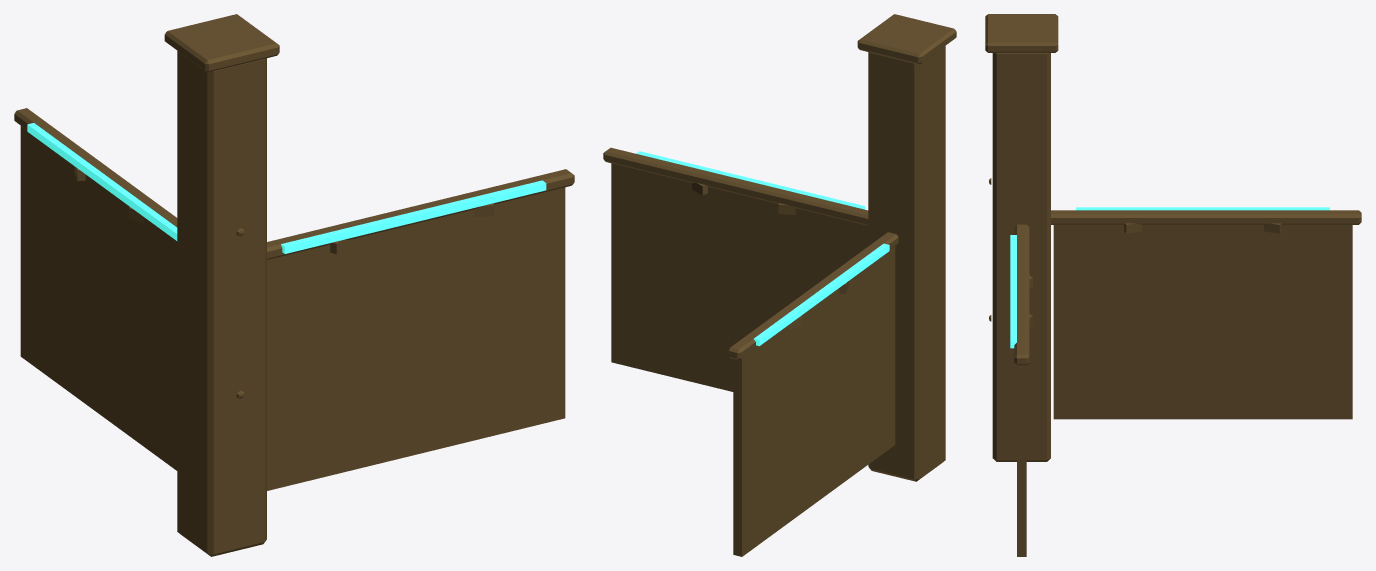
Rendered from SM_Fence_DvergrBrass_08_Corner.fbx.
3 views of the same model, side by side, from view 1: azimuth 30°, elevation 25°; view 2: azimuth 150°, elevation 25°; view 3: azimuth 270°, elevation 25° (orthographic). The views are drawn at different scales.
Parts seen in each view (by area): view 1: SM_Fence_DvergrBrass_08_Corner_PanelX, SM_Fence_DvergrBrass_08_Corner_Post, SM_Fence_DvergrBrass_08_Corner_PanelY, SM_Fence_DvergrBrass_08_Corner_Post_Cap, SM_Fence_DvergrBrass_08_Corner_GlowX, SM_Fence_DvergrBrass_08_Corner_RailTopX, SM_Fence_DvergrBrass_08_Corner_GlowY, SM_Fence_DvergrBrass_08_Corner_RailTopY; view 2: SM_Fence_DvergrBrass_08_Corner_PanelX, SM_Fence_DvergrBrass_08_Corner_PanelY, SM_Fence_DvergrBrass_08_Corner_Post, SM_Fence_DvergrBrass_08_Corner_RailTopX, SM_Fence_DvergrBrass_08_Corner_Post_Cap, SM_Fence_DvergrBrass_08_Corner_RailTopY, SM_Fence_DvergrBrass_08_Corner_GlowY, SM_Fence_DvergrBrass_08_Corner_GlowX; view 3: SM_Fence_DvergrBrass_08_Corner_PanelY, SM_Fence_DvergrBrass_08_Corner_Post, SM_Fence_DvergrBrass_08_Corner_RailTopY, SM_Fence_DvergrBrass_08_Corner_Post_Cap, SM_Fence_DvergrBrass_08_Corner_RailTopX, SM_Fence_DvergrBrass_08_Corner_PanelX, SM_Fence_DvergrBrass_08_Corner_GlowY, SM_Fence_DvergrBrass_08_Corner_GlowX.
Boxes of the visible parts, bbox=[...] form: SM_Fence_DvergrBrass_08_Corner_PanelX: bbox=[267, 187, 565, 490]; SM_Fence_DvergrBrass_08_Corner_Post: bbox=[177, 51, 266, 556]; SM_Fence_DvergrBrass_08_Corner_PanelY: bbox=[20, 126, 177, 470]; SM_Fence_DvergrBrass_08_Corner_Post_Cap: bbox=[164, 14, 279, 72]; SM_Fence_DvergrBrass_08_Corner_GlowX: bbox=[281, 180, 546, 253]; SM_Fence_DvergrBrass_08_Corner_RailTopX: bbox=[267, 169, 574, 259]; SM_Fence_DvergrBrass_08_Corner_GlowY: bbox=[27, 123, 177, 240]; SM_Fence_DvergrBrass_08_Corner_RailTopY: bbox=[14, 108, 177, 227]; SM_Fence_DvergrBrass_08_Corner_PanelX: bbox=[611, 163, 868, 391]; SM_Fence_DvergrBrass_08_Corner_PanelY: bbox=[733, 246, 895, 556]; SM_Fence_DvergrBrass_08_Corner_Post: bbox=[868, 46, 945, 481]; SM_Fence_DvergrBrass_08_Corner_RailTopX: bbox=[603, 147, 868, 225]; SM_Fence_DvergrBrass_08_Corner_Post_Cap: bbox=[857, 14, 956, 64]; SM_Fence_DvergrBrass_08_Corner_RailTopY: bbox=[728, 232, 898, 360]; SM_Fence_DvergrBrass_08_Corner_GlowY: bbox=[754, 243, 889, 346]; SM_Fence_DvergrBrass_08_Corner_GlowX: bbox=[636, 151, 864, 209]; SM_Fence_DvergrBrass_08_Corner_PanelY: bbox=[1053, 224, 1352, 419]; SM_Fence_DvergrBrass_08_Corner_Post: bbox=[992, 53, 1050, 461]; SM_Fence_DvergrBrass_08_Corner_RailTopY: bbox=[1051, 210, 1361, 224]; SM_Fence_DvergrBrass_08_Corner_Post_Cap: bbox=[985, 14, 1058, 52]; SM_Fence_DvergrBrass_08_Corner_RailTopX: bbox=[1014, 224, 1029, 365]; SM_Fence_DvergrBrass_08_Corner_PanelX: bbox=[1017, 365, 1026, 556]; SM_Fence_DvergrBrass_08_Corner_GlowY: bbox=[1076, 207, 1329, 210]; SM_Fence_DvergrBrass_08_Corner_GlowX: bbox=[1010, 235, 1016, 348].
Bounding box in the file's own units: 1.14 × 1.41 × 1.14.
